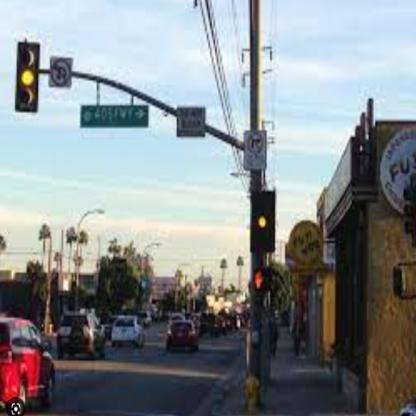yellow: (15, 42, 40, 113), (250, 192, 276, 252)
